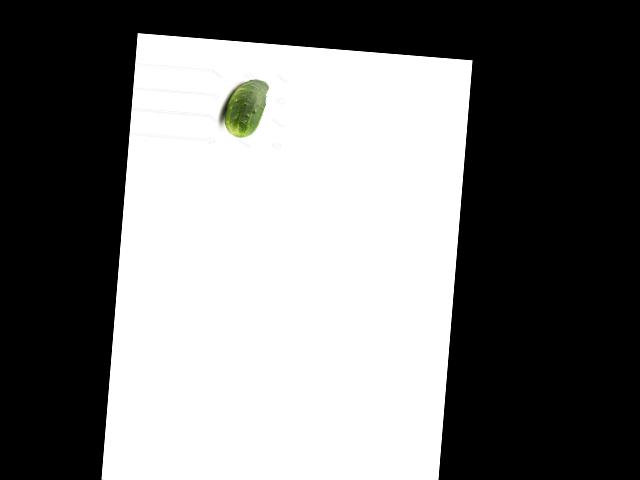cucumber: (222, 77, 269, 139)
